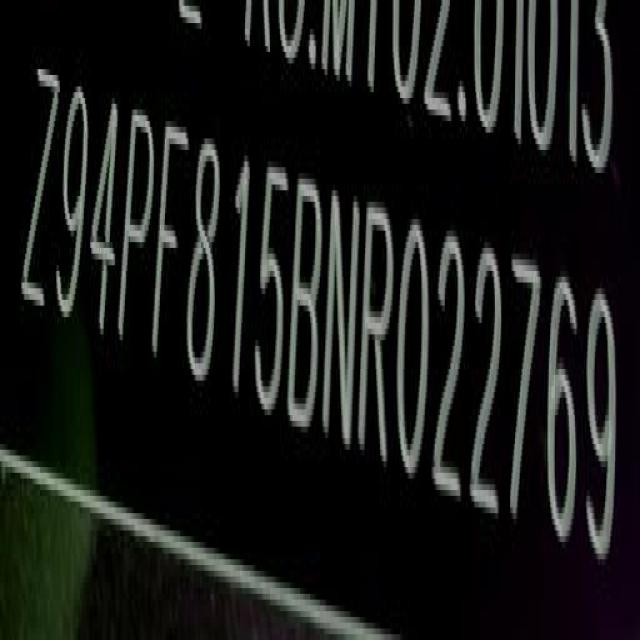0: (396, 221, 431, 483)
1: (228, 156, 250, 404)
2: (434, 227, 466, 495), (470, 245, 501, 518)
4: (90, 91, 122, 344)
5: (256, 167, 288, 422)
6: (545, 270, 578, 552)
7: (509, 251, 544, 534)
8: (191, 132, 223, 387)
9: (588, 298, 620, 566), (57, 77, 90, 328)
B: (294, 168, 326, 434)
F: (154, 116, 188, 374)
N: (324, 182, 361, 452)
P: (121, 101, 158, 362)
R: (363, 198, 398, 469)
Z: (18, 57, 62, 320)
